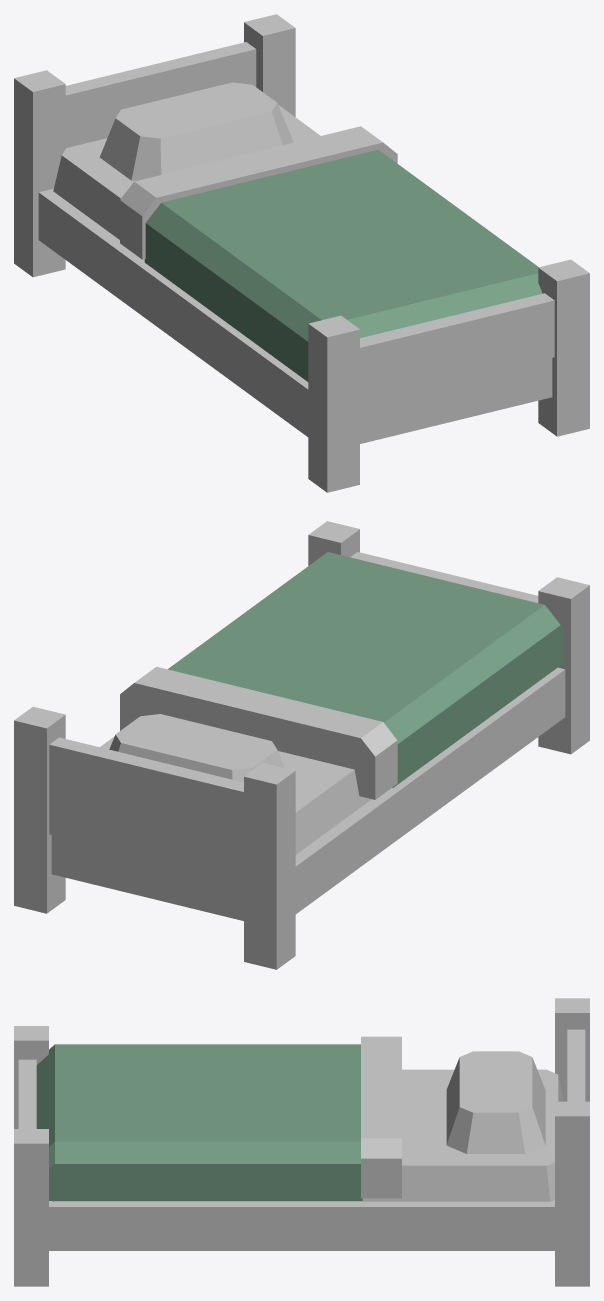
File: bed.obj
The picture shows the model from 3 angles, top to bottom: view 1: azimuth 30°, elevation 25°; view 2: azimuth 150°, elevation 25°; view 3: azimuth 270°, elevation 25°; orthographic projection. The views are drawn at different scales.
Parts seen in each view (by area): view 1: bed_9, bed_0, bed_6, bed_8, bed_2, bed_5, bed_10, bed_1, bed_4, bed_7, bed_3; view 2: bed_9, bed_0, bed_5, bed_10, bed_1, bed_3, bed_8, bed_2, bed_7, bed_4, bed_6; view 3: bed_9, bed_0, bed_7, bed_8, bed_10, bed_3, bed_4, bed_1, bed_2, bed_5, bed_6.
Part boxes in pixels (x1=…): bed_9: x1=144, y1=149, x2=542, y2=381; bed_0: x1=38, y1=188, x2=552, y2=443; bed_6: x1=360, y1=293, x2=554, y2=404; bed_8: x1=99, y1=82, x2=293, y2=181; bed_2: x1=308, y1=315, x2=359, y2=492; bed_5: x1=65, y1=42, x2=256, y2=148; bed_10: x1=120, y1=126, x2=397, y2=259; bed_1: x1=14, y1=70, x2=65, y2=277; bed_4: x1=538, y1=259, x2=589, y2=436; bed_7: x1=53, y1=105, x2=320, y2=239; bed_3: x1=244, y1=14, x2=295, y2=116; bed_9: x1=168, y1=552, x2=563, y2=787; bed_0: x1=51, y1=667, x2=565, y2=920; bed_5: x1=49, y1=737, x2=243, y2=881; bed_10: x1=120, y1=666, x2=397, y2=799; bed_1: x1=244, y1=763, x2=295, y2=969; bed_3: x1=14, y1=706, x2=65, y2=913; bed_8: x1=109, y1=714, x2=284, y2=782; bed_2: x1=538, y1=577, x2=589, y2=754; bed_7: x1=100, y1=736, x2=371, y2=854; bed_4: x1=308, y1=521, x2=359, y2=565; bed_6: x1=350, y1=552, x2=538, y2=602; bed_9: x1=36, y1=1044, x2=362, y2=1200; bed_0: x1=49, y1=1200, x2=554, y2=1250; bed_7: x1=52, y1=1069, x2=563, y2=1201; bed_8: x1=446, y1=1051, x2=545, y2=1153; bed_10: x1=361, y1=1036, x2=401, y2=1198; bed_3: x1=555, y1=1101, x2=589, y2=1286; bed_4: x1=14, y1=1129, x2=48, y2=1286; bed_1: x1=555, y1=998, x2=589, y2=1101; bed_2: x1=14, y1=1026, x2=48, y2=1128; bed_5: x1=567, y1=1029, x2=585, y2=1101; bed_6: x1=18, y1=1059, x2=36, y2=1128.
Size of the model in its own units: 0.92 by 0.62 by 1.9.
